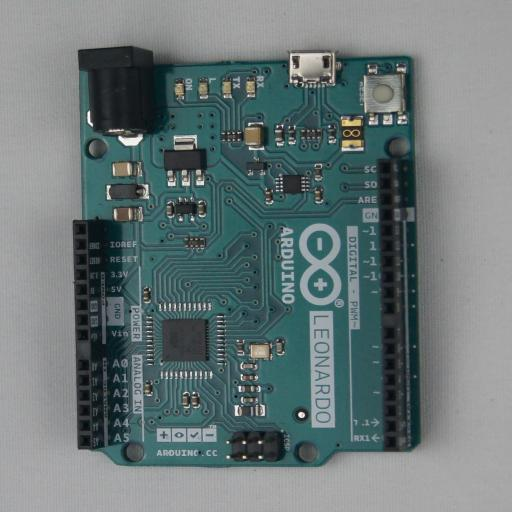Arduino Leonardo: (72, 46, 434, 467)
